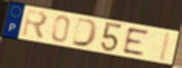0: (51, 14, 71, 43)
5: (100, 21, 124, 53)
D: (70, 17, 100, 49)
E: (122, 27, 151, 57)
I: (157, 31, 174, 63)
R: (21, 8, 50, 41)
